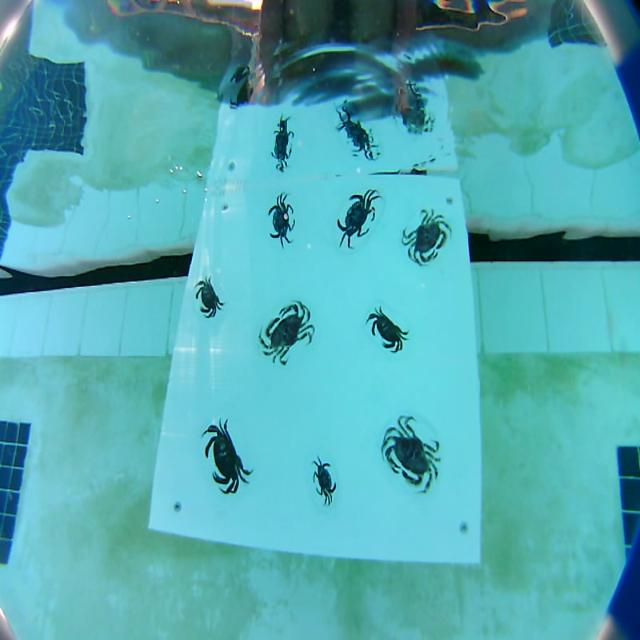green_crab: (337, 189, 380, 248), (268, 193, 295, 248), (312, 457, 337, 505)
jonah_crab: (380, 416, 441, 492), (259, 301, 315, 365), (402, 209, 451, 265)
rock_crab: (202, 419, 252, 494), (367, 308, 408, 352), (196, 277, 224, 317)
